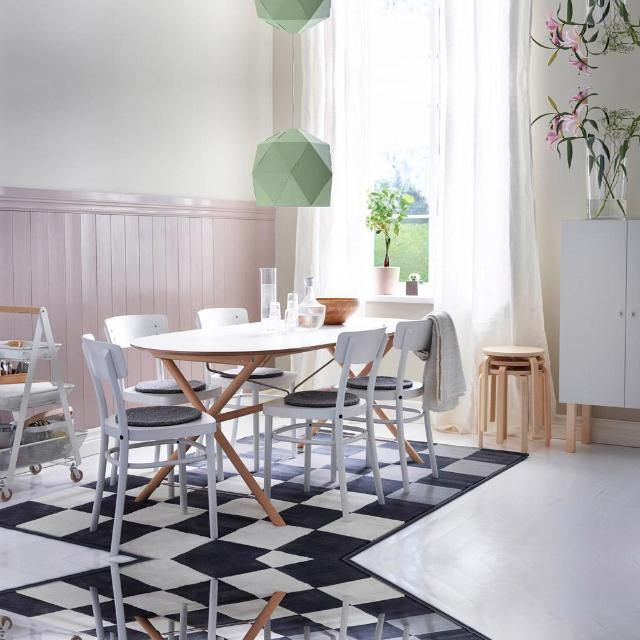obstacle: (80, 273, 447, 555), (79, 562, 446, 640), (558, 208, 640, 470), (0, 290, 84, 502), (476, 337, 556, 459), (0, 615, 83, 640)
